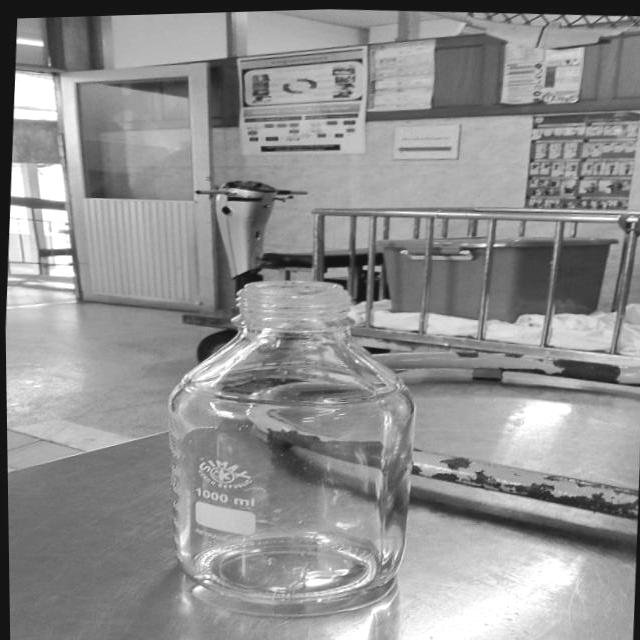General: (163, 276, 418, 629)
Sharps: (194, 179, 310, 205)
